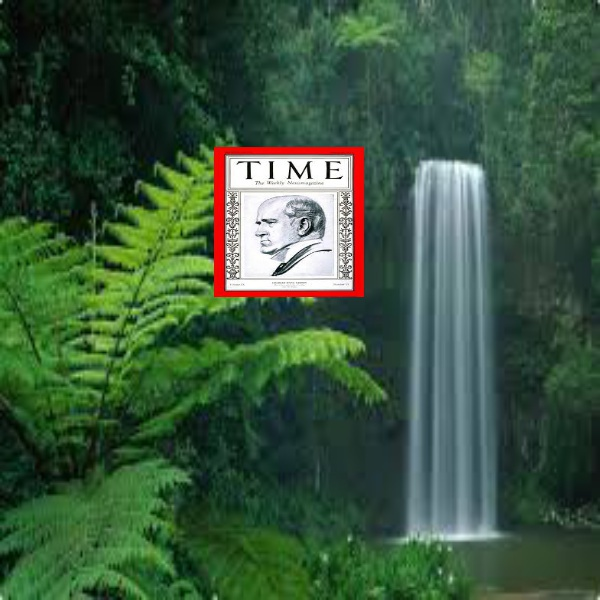time_cover: (205, 134, 362, 293)
